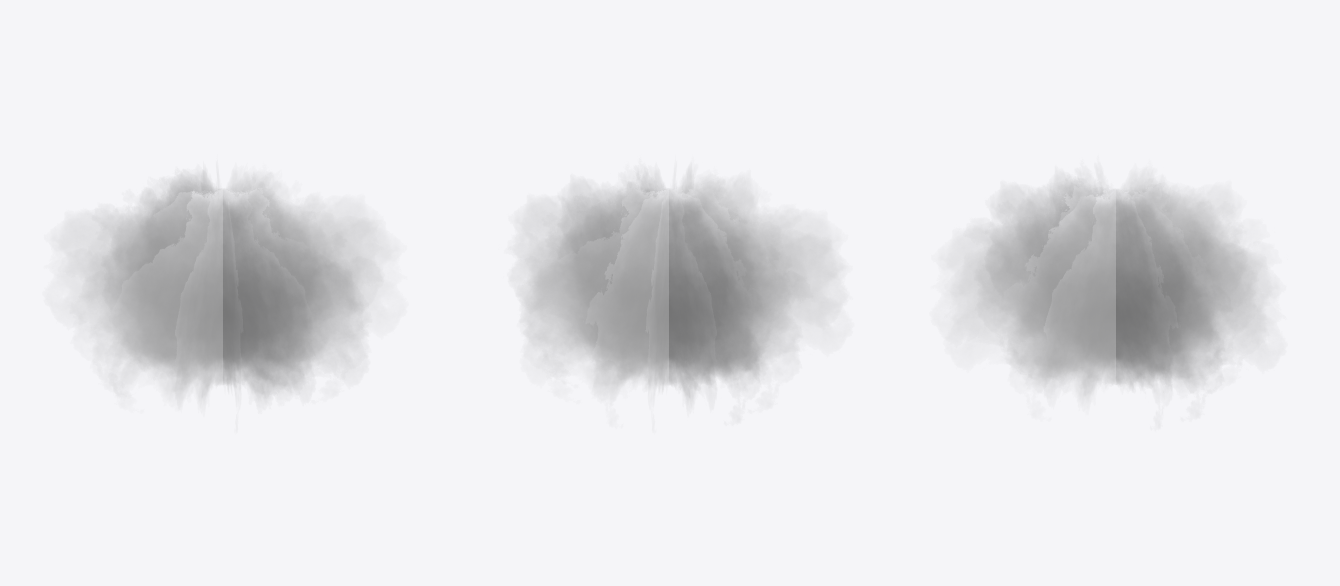
The model's file is model-dark.glb.
3 views of the same model, side by side, from view 1: azimuth 30°, elevation 25°; view 2: azimuth 150°, elevation 25°; view 3: azimuth 270°, elevation 25° (orthographic).
Parts seen in each view (by area): view 1: cloud; view 2: cloud; view 3: cloud.
Boxes of the visible parts, x1,y1,x2,y2 form: cloud: (62, 171, 387, 399); cloud: (520, 169, 839, 398); cloud: (950, 175, 1268, 396).
Bounding box in the file's own units: 4.17 × 4.17 × 4.17.
8 materials, 8 textured.
